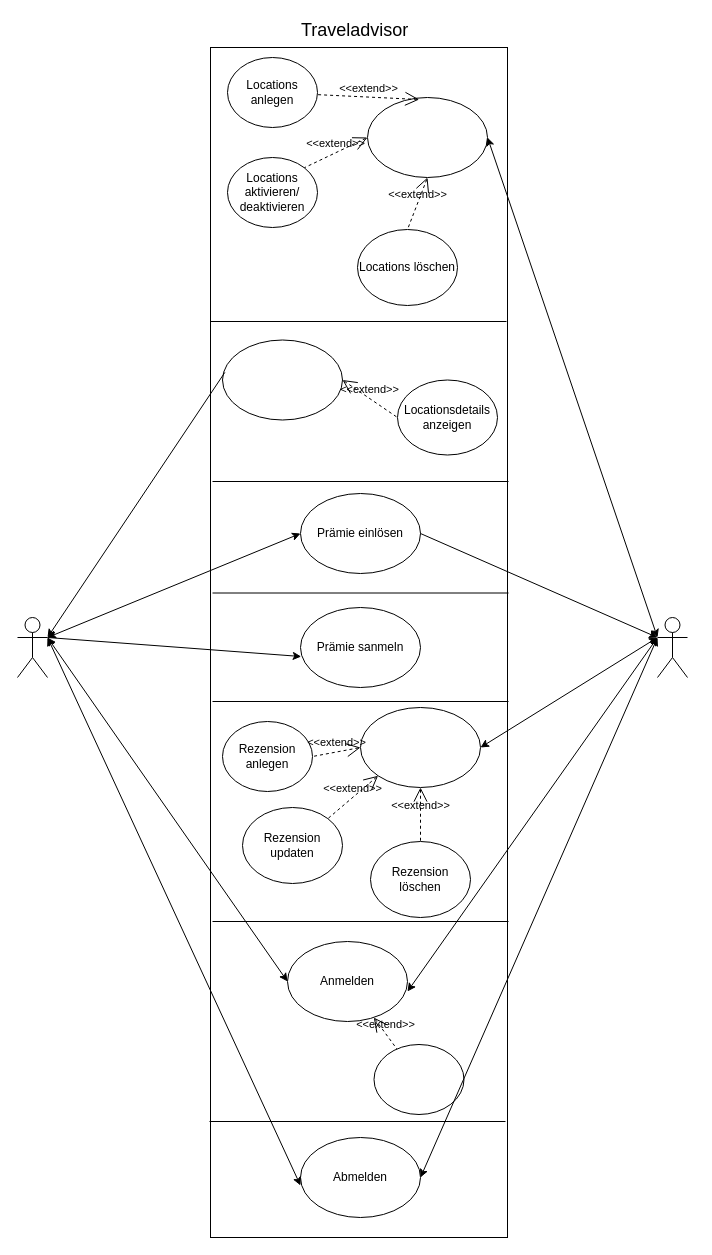
The diagram is 712 pixels wide and 1255 high, and some of its shapes have lost their labels. Here are the shapes that lost their labels. From the top down, the box of each, then its label:
(366, 96, 488, 178): Locations verwalten
(222, 339, 342, 420): Locations anzeigen
(16, 616, 48, 678): User
(656, 616, 688, 678): Anbieter
(360, 706, 480, 788): Rezensionen verwalten
(373, 1044, 464, 1114): Registrieren
